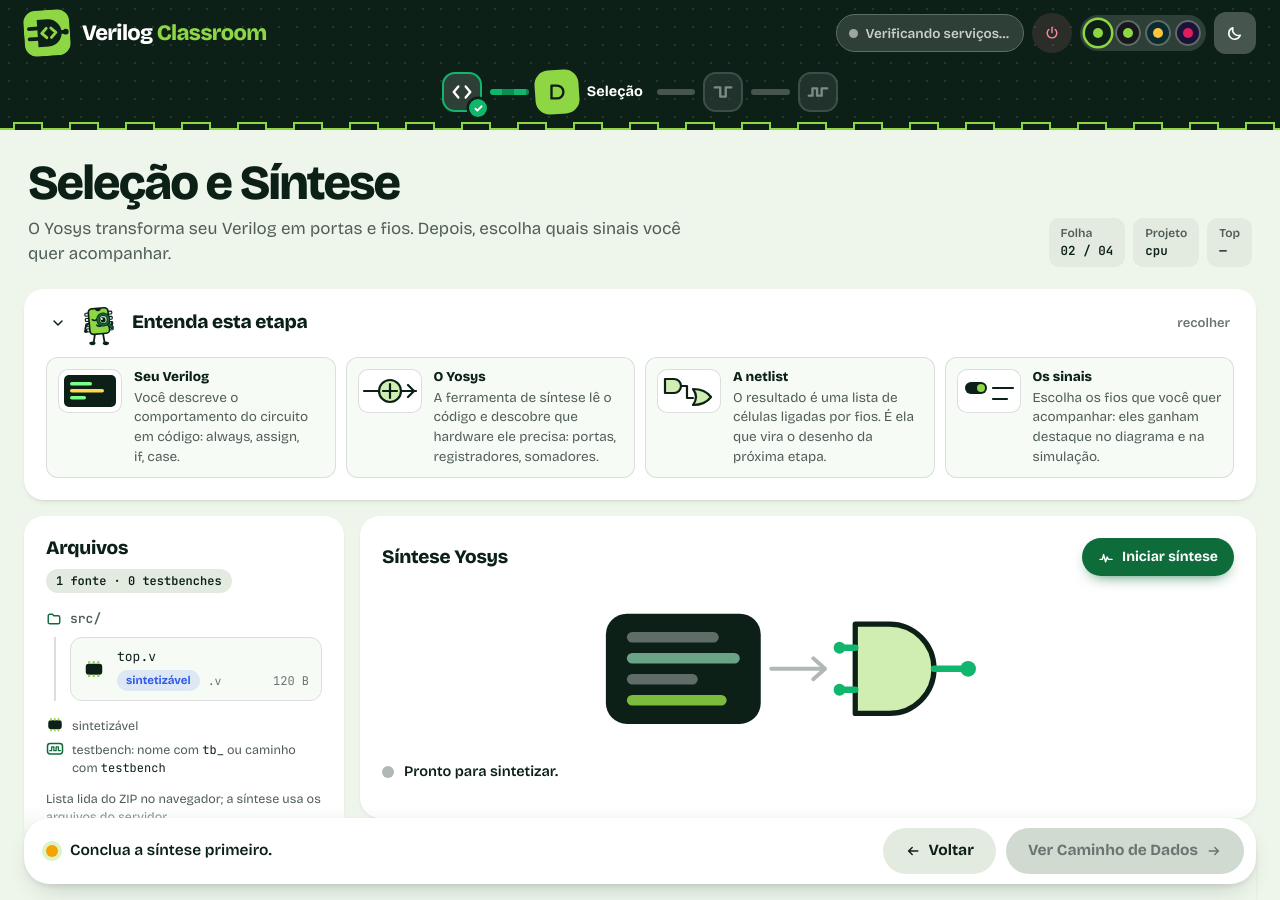
Test: Tela 2b — escolha explícita do top (#27) › falha da síntese com top escolhido mantém a lista para escolher outro ou voltar ao automático
Click the button "Iniciar síntese" at x=1158, y=557, box left=1082, top=538, right=1234, bottom=576
(page scrolled)
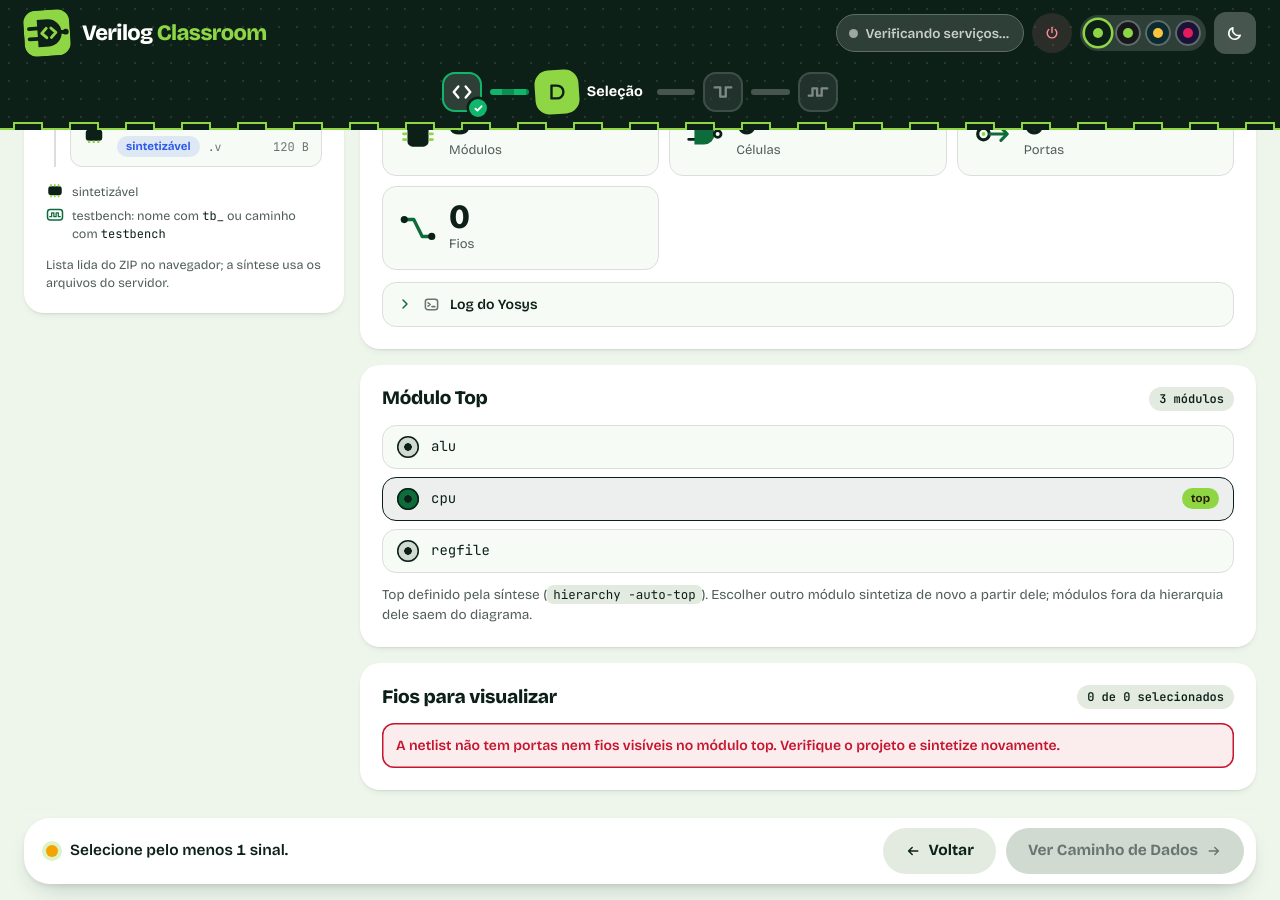
expect the list named "Módulos encontrados na netlist" is shown: met, box left=382, top=424, right=1234, bottom=572
Click the radio button labelled "regfile" at x=408, y=550, box left=397, top=540, right=419, bottom=562
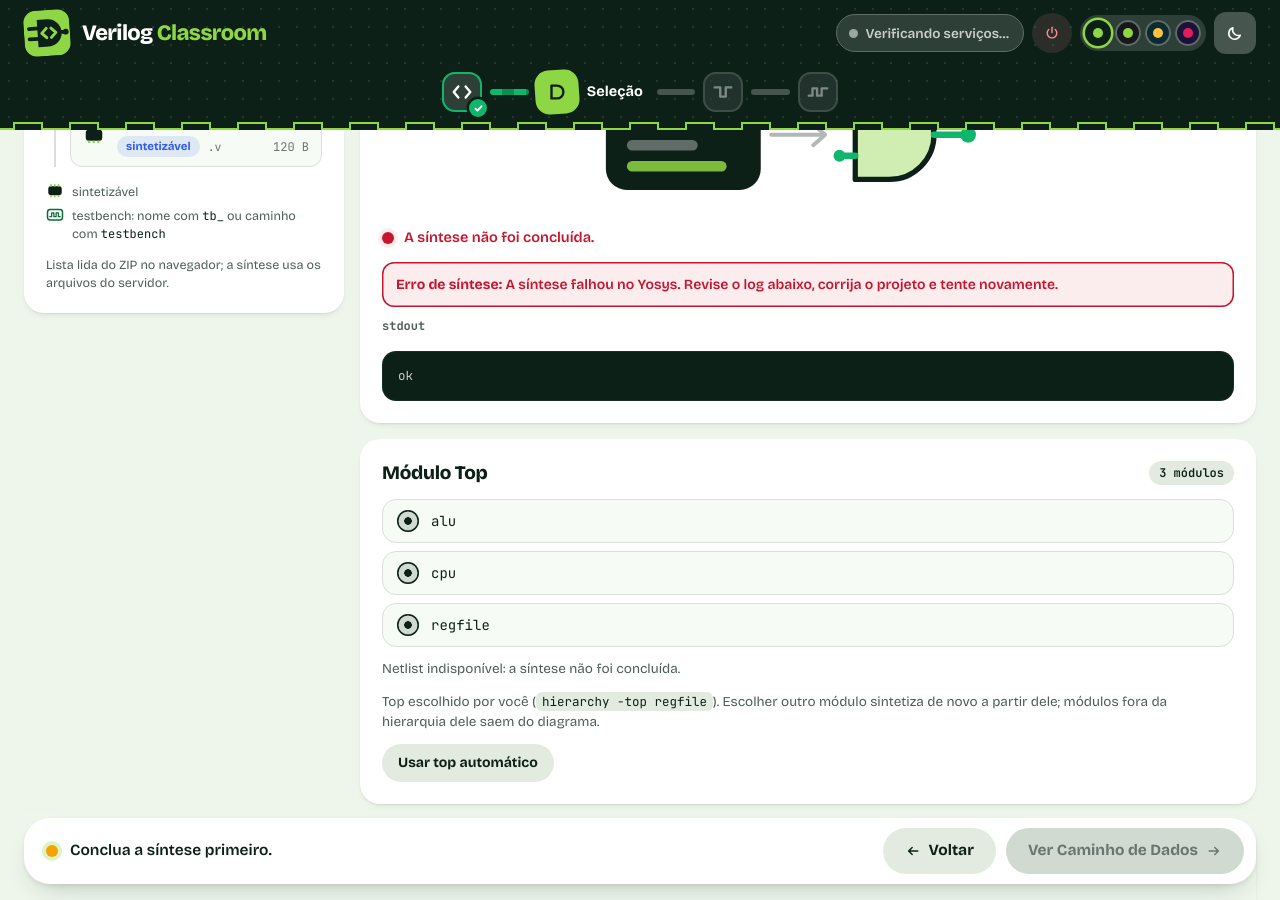
expect the message that starts with "Erro de síntese" is shown: met, box left=382, top=262, right=1234, bottom=307
expect the text "Netlist indisponível: a síntese não foi concluída." is shown: met, box left=382, top=660, right=680, bottom=677
expect the button "Usar top automático" is enabled: met, box left=382, top=744, right=554, bottom=782
